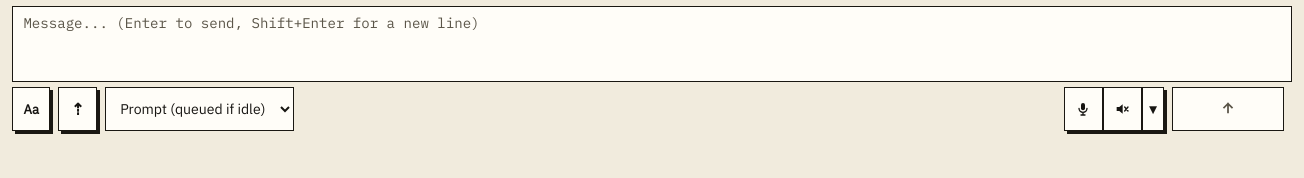
Test case: MarkdownEditor › labels every toolbar button and wires the toggle buttons' state
What coordinates should you click on to do the following:
click the button "Aa"
I would click on:
 (31, 109)
Its box is [12,87,50,131].
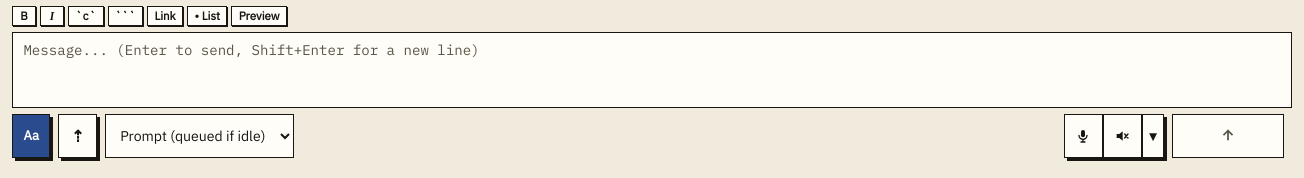
Check: the button "Aa" is expanded, box [12,114,50,158]
